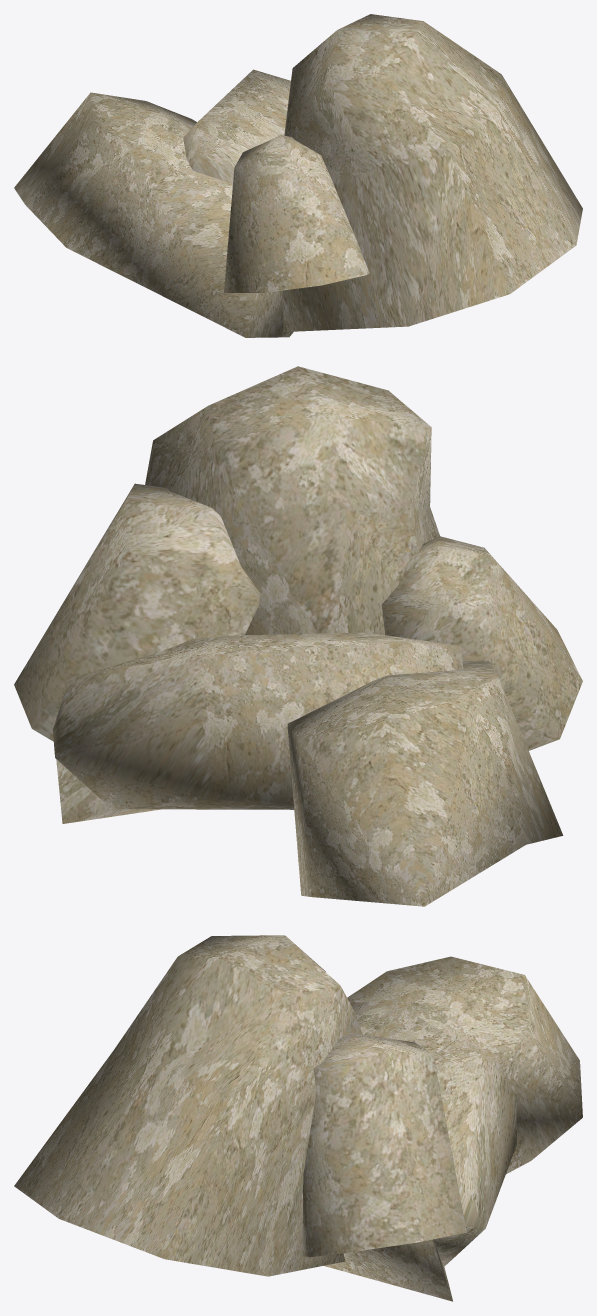
File: rock_formation_a3_l2.fbx
The picture shows the model from 3 angles, top to bottom: view 1: azimuth 30°, elevation 25°; view 2: azimuth 150°, elevation 25°; view 3: azimuth 270°, elevation 25°; orthographic projection. The views are drawn at different scales.
Parts seen in each view (by area): view 1: mesh_node; view 2: mesh_node; view 3: mesh_node.
Part boxes in pixels (left/top/right/bottom): mesh_node: left=14, top=14, right=582, bottom=337; mesh_node: left=14, top=366, right=582, bottom=906; mesh_node: left=14, top=935, right=582, bottom=1301.
Size of the model in its own units: 10.04 by 6.71 by 10.27.
